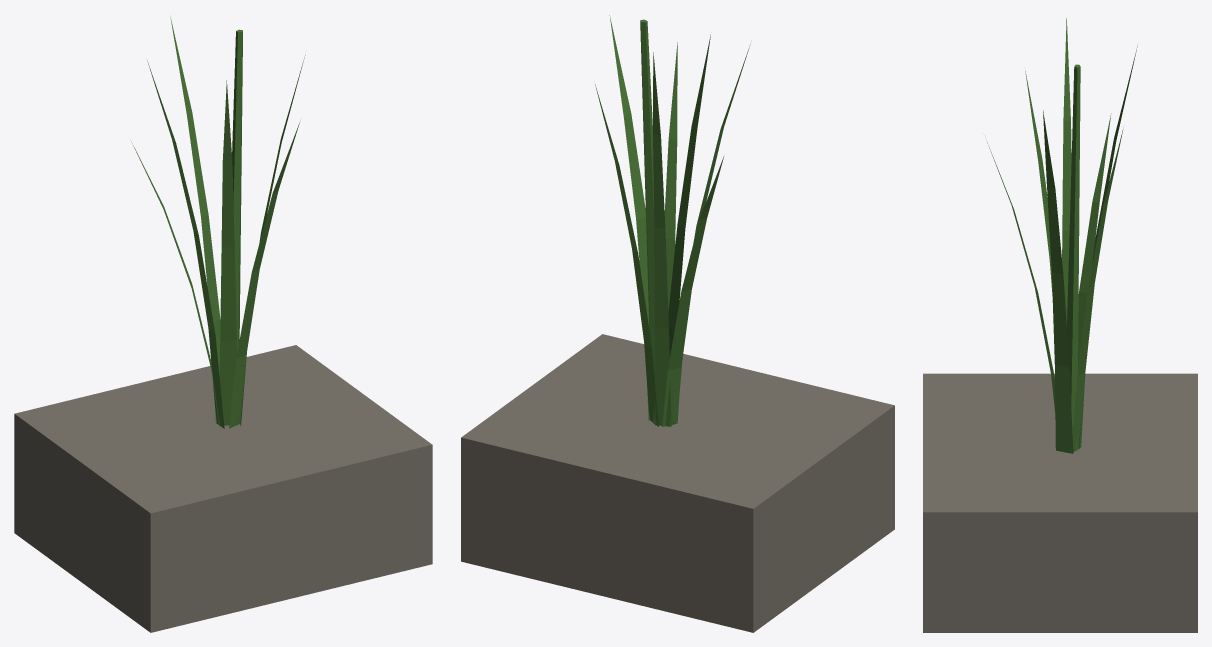
Rendered from props_ocean.glb.
3 renders of one model, left to right at view 1: azimuth 30°, elevation 25°; view 2: azimuth 150°, elevation 25°; view 3: azimuth 270°, elevation 25°, orthographic. The views are drawn at different scales.
Parts seen in each view (by area): view 1: col_Ocean_SeabedRock, Ocean_Kelp_LOD0; view 2: col_Ocean_SeabedRock, Ocean_Kelp_LOD0; view 3: col_Ocean_SeabedRock, Ocean_Kelp_LOD0.
Boxes of the visible parts, bbox=[...] form: col_Ocean_SeabedRock: bbox=[14, 345, 432, 632]; Ocean_Kelp_LOD0: bbox=[131, 16, 305, 428]; col_Ocean_SeabedRock: bbox=[461, 334, 894, 632]; Ocean_Kelp_LOD0: bbox=[595, 15, 750, 426]; col_Ocean_SeabedRock: bbox=[923, 373, 1197, 632]; Ocean_Kelp_LOD0: bbox=[987, 18, 1137, 453].
Size of what is drawn, in the model's own units: 1.85 by 3.2 by 1.55.
